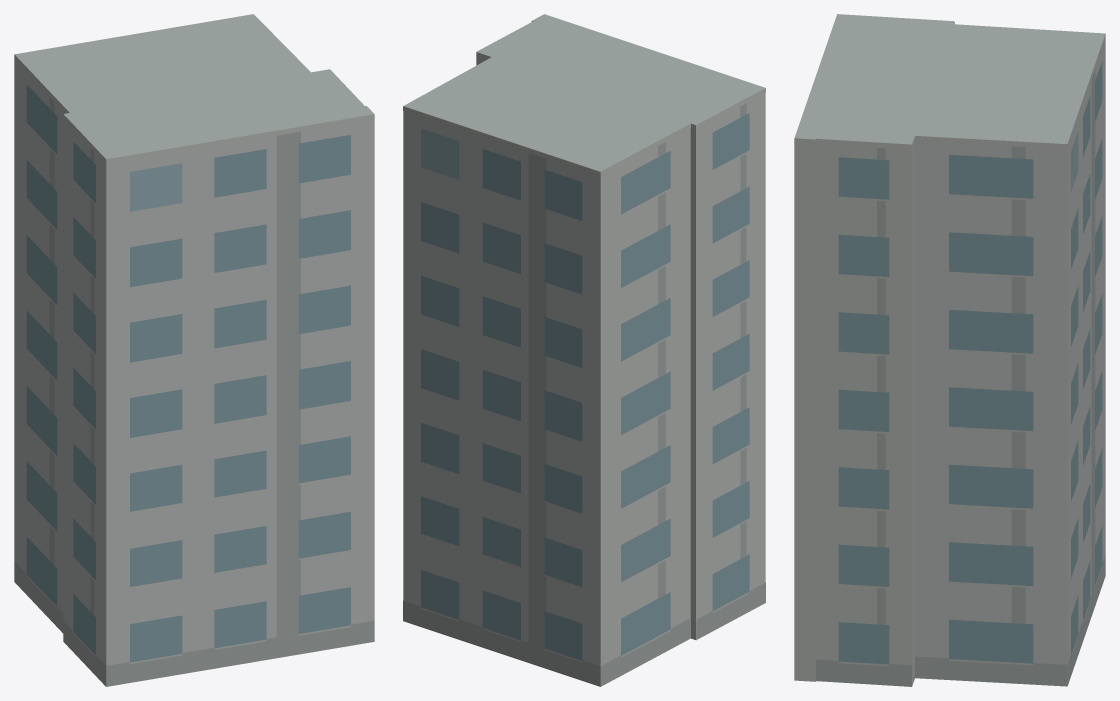
The model's file is survey-upis-32784475.glb.
3 views of the same model, side by side, from view 1: azimuth 30°, elevation 25°; view 2: azimuth 150°, elevation 25°; view 3: azimuth 270°, elevation 25° (orthographic). The views are drawn at different scales.
Parts seen in each view (by area): view 1: survey-upis-32784475.tmp; view 2: survey-upis-32784475.tmp; view 3: survey-upis-32784475.tmp.
Part boxes in pixels (bbox=[...]): survey-upis-32784475.tmp: bbox=[14, 14, 374, 686]; survey-upis-32784475.tmp: bbox=[403, 14, 765, 686]; survey-upis-32784475.tmp: bbox=[794, 14, 1105, 686].
Bounding box in the file's own units: 12.92 × 25 × 13.01.
